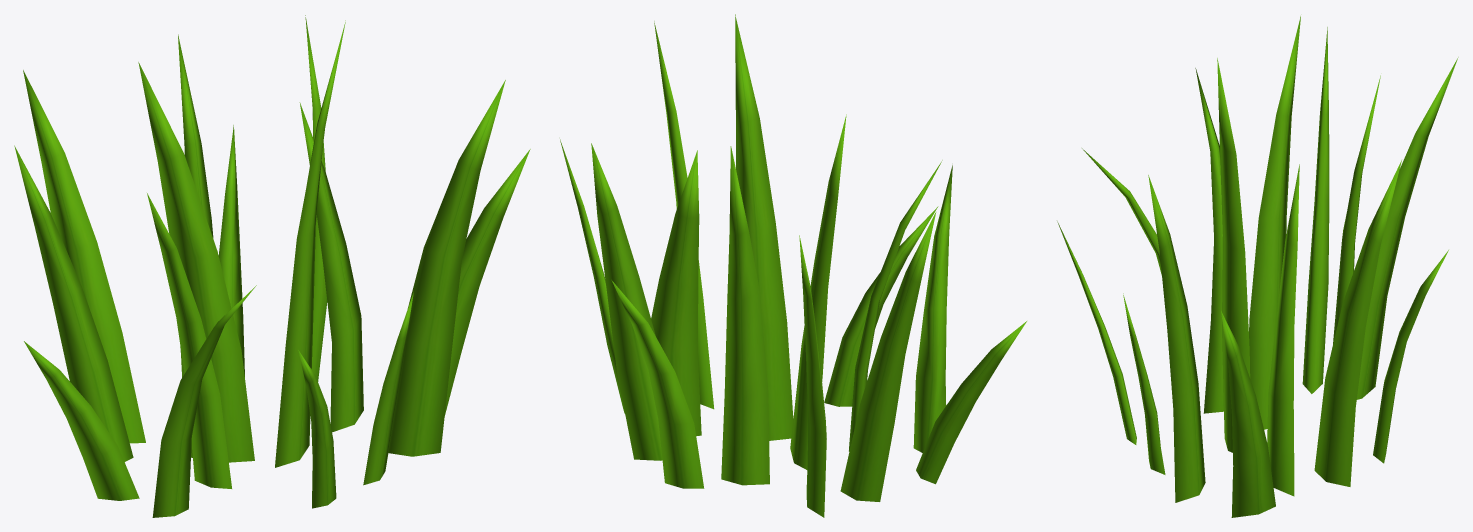
File: GrassShort2.fbx
The picture shows the model from 3 angles, left to right: view 1: azimuth 30°, elevation 25°; view 2: azimuth 150°, elevation 25°; view 3: azimuth 270°, elevation 25°; orthographic projection. The views are drawn at different scales.
Parts seen in each view (by area): view 1: Mesh; view 2: Mesh; view 3: Mesh.
Part boxes in pixels (x1,y1,x2,y2): Mesh: (14,15,530,517); Mesh: (560,14,1026,517); Mesh: (1057,16,1458,517).
Bounding box in the file's own units: 110 × 90.67 × 80.19.
